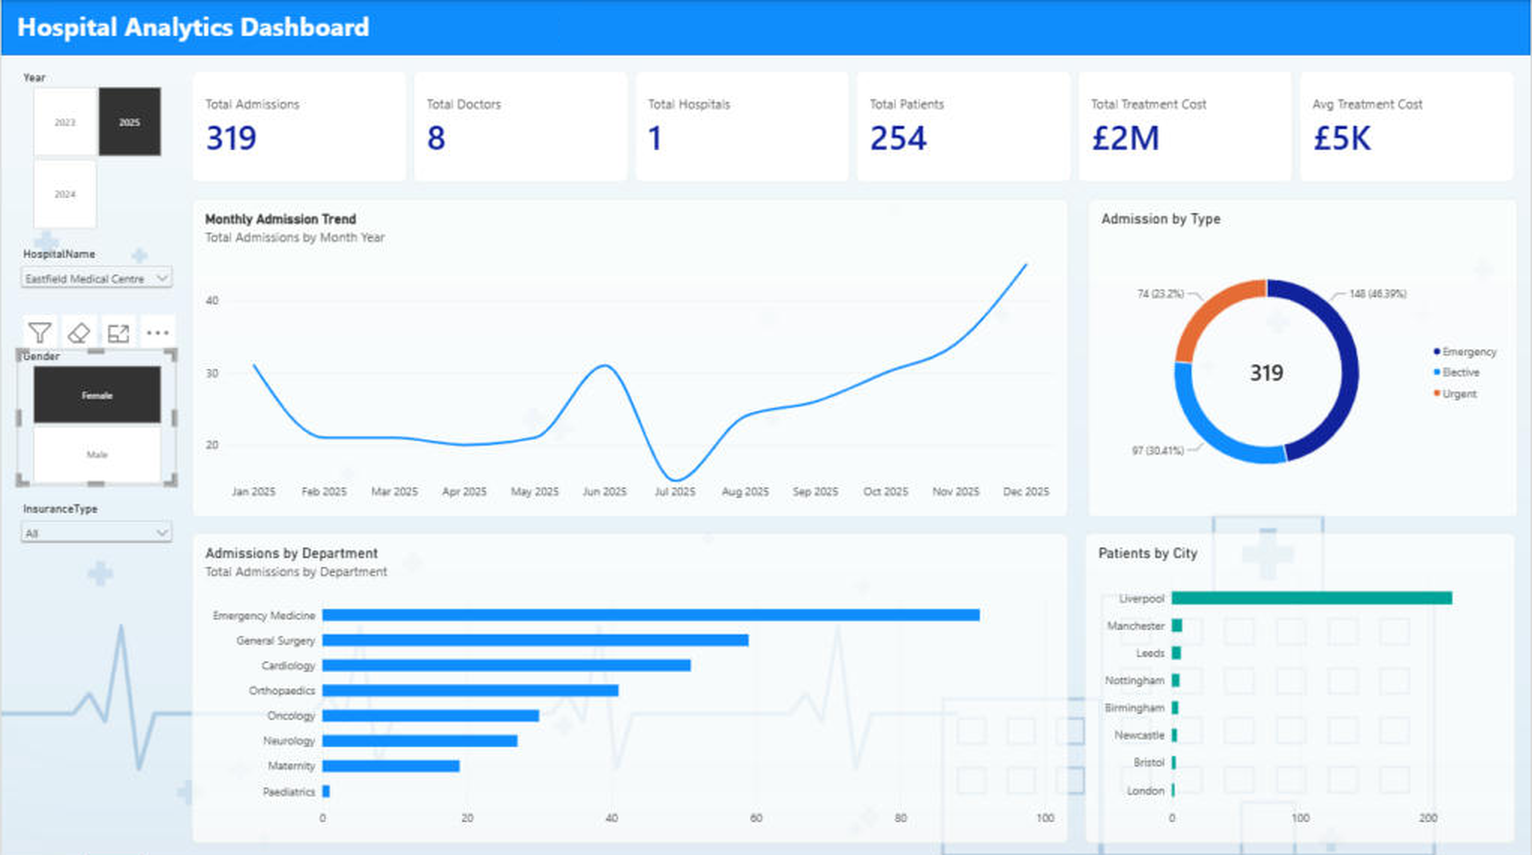

This screenshot's page, from the dashboard's own definition file:
{"tool":"powerbi","page":{"name":"Page 1","canvas":[1920,1080],"ordinal":0},"visuals":[{"type":"cardVisual","fields":{"Data":["_Measures.Total Admissions","_Measures.Total Doctors","_Measures.Total Hospitals","_Measures.Total Patients","_Measures.Total Treatment Cost","_Measures.Avg Treatment Cost"]},"box":[240,90,1660,140],"z":0},{"type":"shape","box":[0,0,1920,70],"z":1},{"type":"textbox","box":[20,15,700,40],"z":2},{"type":"lineChart","title":"Monthly Admission Trend","fields":{"Category":["DateTable.Month Year"],"Y":["_Measures.Total Admissions"]},"box":[240,250,1100,400],"z":3},{"type":"donutChart","title":"Admission by Type","fields":{"Category":["Admissions.AdmissionType"],"Y":["_Measures.Total Admissions"]},"box":[1363.5,250.6,540,400],"z":4},{"type":"clusteredBarChart","title":"Admissions by Department","fields":{"Category":["Departments.Department"],"Y":["_Measures.Total Admissions"]},"box":[240,670,1100,390],"z":5},{"type":"clusteredBarChart","title":"Patients by City","fields":{"Category":["Patients.City"],"Y":["_Measures.Total Patients"]},"box":[1360,670,540,390],"z":6},{"type":"slicer","fields":{"Values":["DateTable.Year"]},"box":[20,90,200,200],"z":7},{"type":"slicer","fields":{"Values":["Hospitals.HospitalName"]},"box":[20,310,200,110],"z":8},{"type":"slicer","fields":{"Values":["Patients.Gender"]},"box":[20,440,200,170],"z":9},{"type":"slicer","fields":{"Values":["Admissions.InsuranceType"]},"box":[20,630,200,110],"z":10}]}

Visuals, with their boxes in screenshot pixels (x1, y1, x2, y2), scaled from the page's 1920x1080 canvas onto the 1532x855 screenshot:
cardVisual - _Measures.Total Admissions x _Measures.Total Doctors: 192, 71, 1516, 182
shape: 0, 0, 1531, 55
textbox: 16, 12, 574, 44
"Monthly Admission Trend" lineChart: 192, 198, 1069, 515
"Admission by Type" donutChart: 1088, 198, 1519, 515
"Admissions by Department" clusteredBarChart: 192, 530, 1069, 839
"Patients by City" clusteredBarChart: 1085, 530, 1516, 839
slicer - DateTable.Year: 16, 71, 176, 230
slicer - Hospitals.HospitalName: 16, 245, 176, 332
slicer - Patients.Gender: 16, 348, 176, 483
slicer - Admissions.InsuranceType: 16, 499, 176, 586
